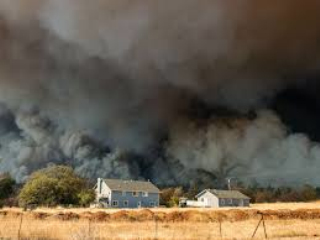smoke: (99, 25, 311, 179), (9, 108, 151, 174)
